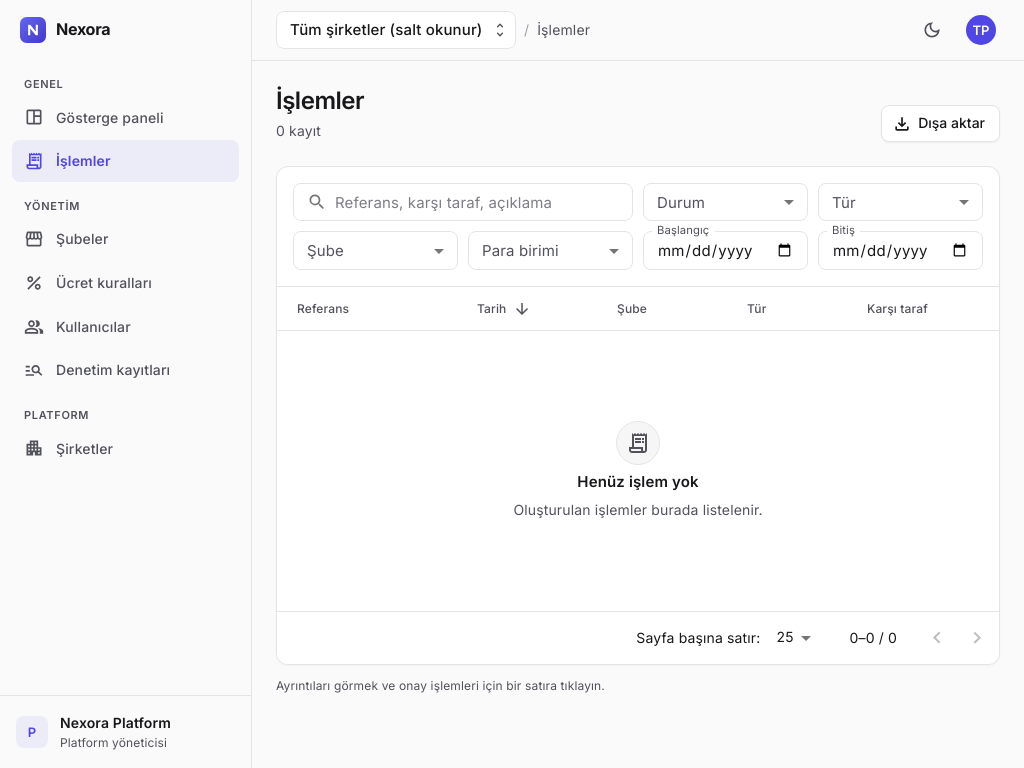
Scenario: role-based UI › lets a platform admin write only after choosing a tenant, and scopes requests to it
Expected: the heading "İşlemler" is shown, [276,85,364,116]
Expected: the button "Yeni işlem" is not shown
Click the dropdown labelled "şirket": (386, 30) [290,20,482,39]
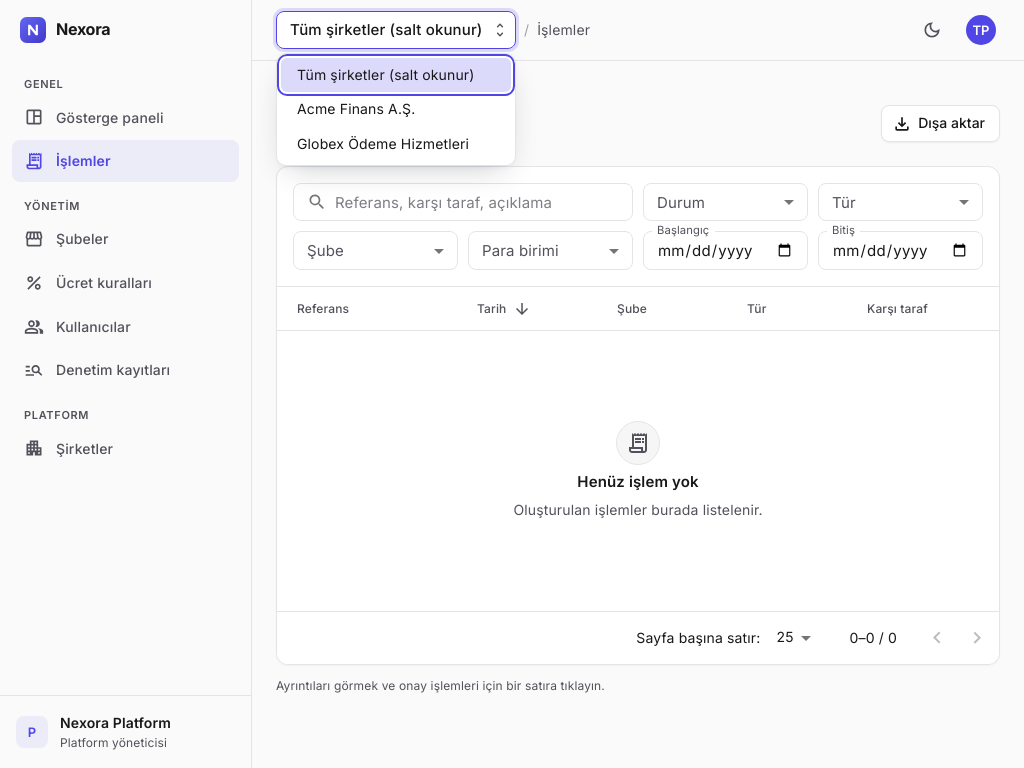
Click the option "Globex Ödeme Hizmetleri": (383, 143) [297,135,469,152]
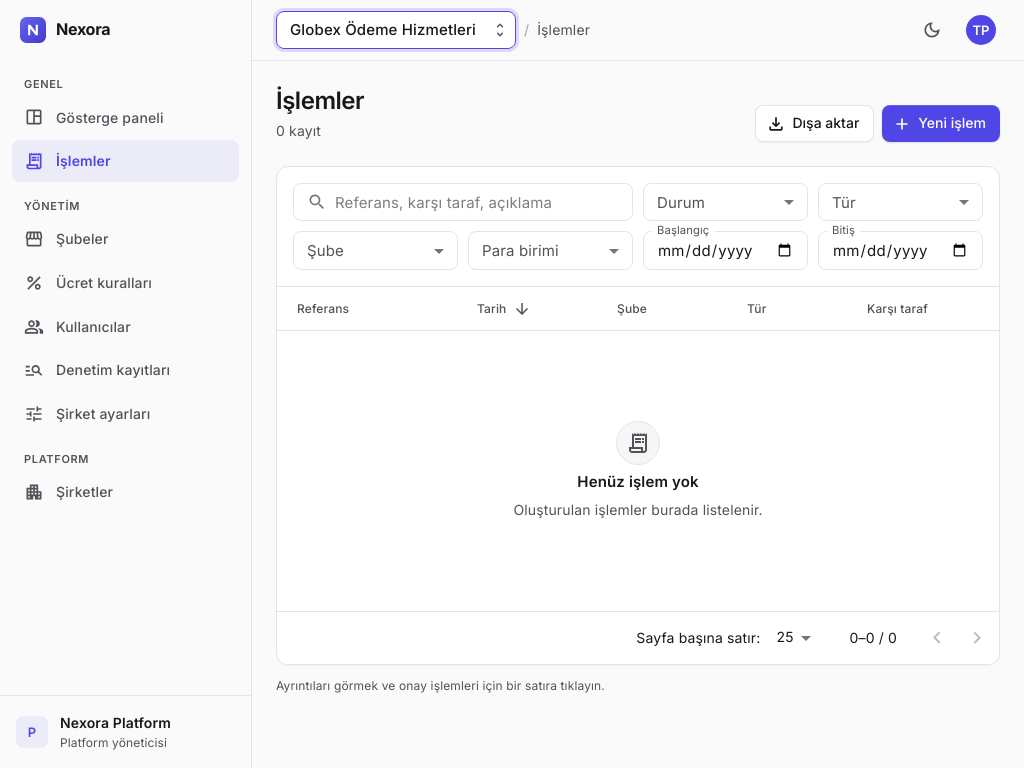
Result: the button "Yeni işlem" is shown at [882,105,1000,142]
